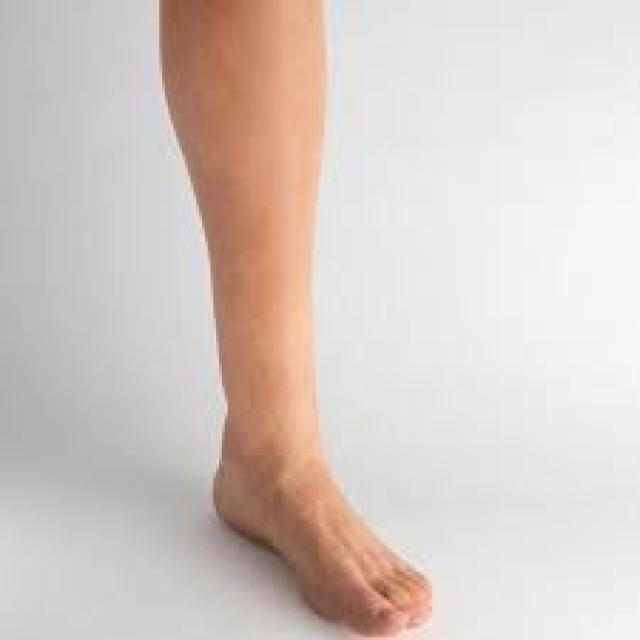piel: (157, 0, 442, 637)
